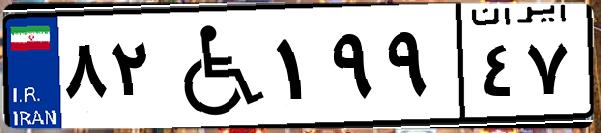1: (270, 28, 330, 110)
2: (110, 28, 158, 98)
4: (475, 38, 525, 113)
7: (525, 38, 570, 115)
8: (57, 26, 110, 100)
9: (385, 28, 445, 110), (330, 28, 385, 110)
ژ (معلولین و جانبازان): (158, 12, 270, 120)
